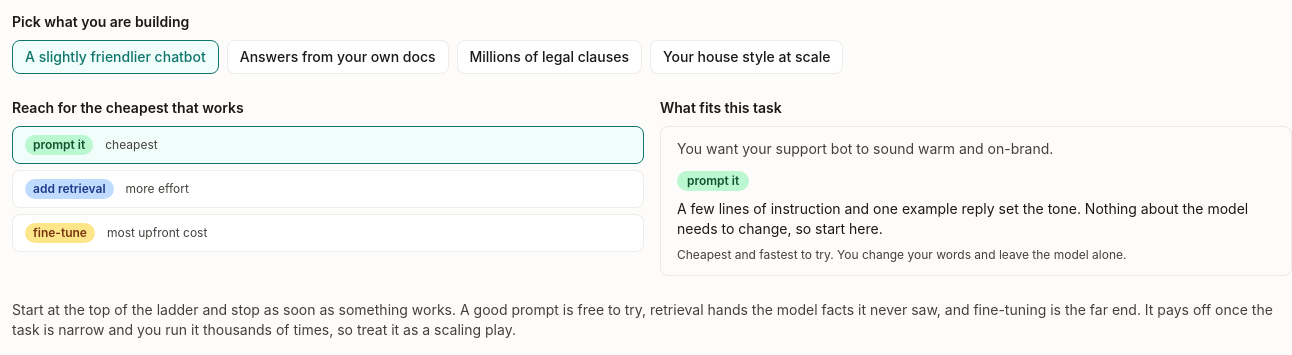
Test case: picking a high-volume narrow task recommends fine-tuning
Click the button "Millions of legal clauses". click: {"x": 549, "y": 57}
box: [456,40,642,74]
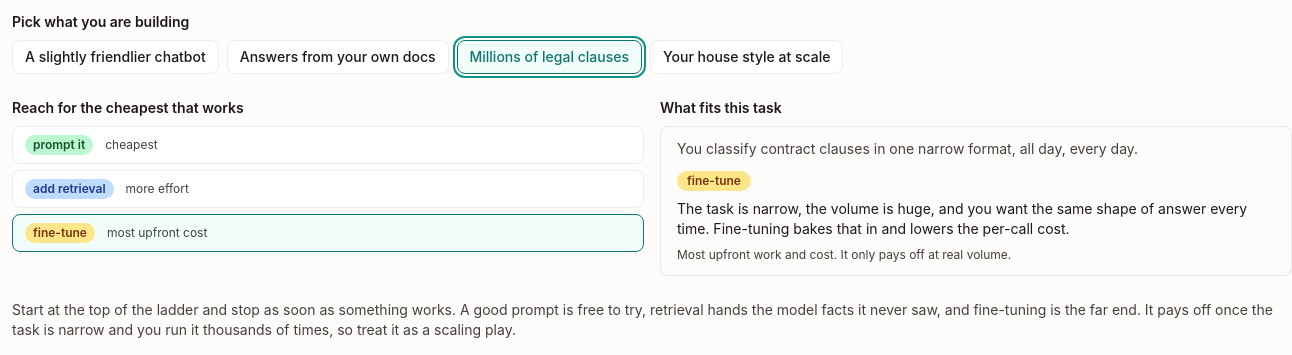
Expected: the element named "fine-tune: the task is narrow, the volume is huge" is shown, [660,126,1291,276]
